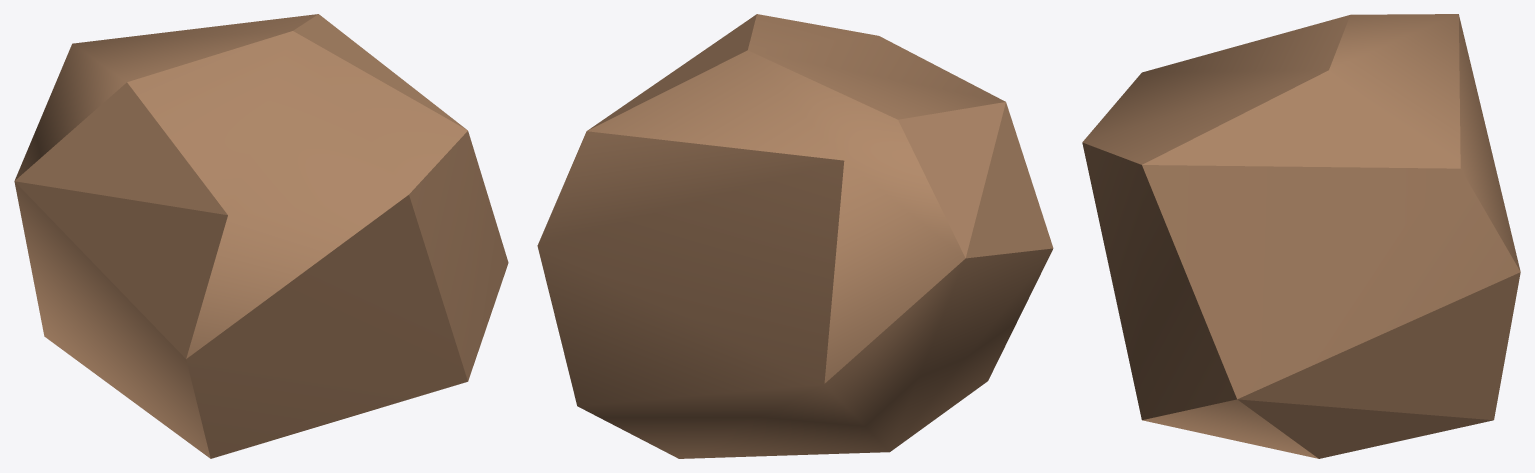
File: ironrock.fbx
3 renders of one model, left to right at view 1: azimuth 30°, elevation 25°; view 2: azimuth 150°, elevation 25°; view 3: azimuth 270°, elevation 25°, orthographic. The views are drawn at different scales.
Visible parts, largest first — view 1: pCube3; view 2: pCube3; view 3: pCube3.
Part boxes in pixels (x1,y1,x2,y2): pCube3: (14,14,508,458); pCube3: (537,14,1053,458); pCube3: (1082,14,1520,458).
Bounding box in the file's own units: 13.83 × 11.22 × 12.45.
Materials: 1 (1 with a texture image).
